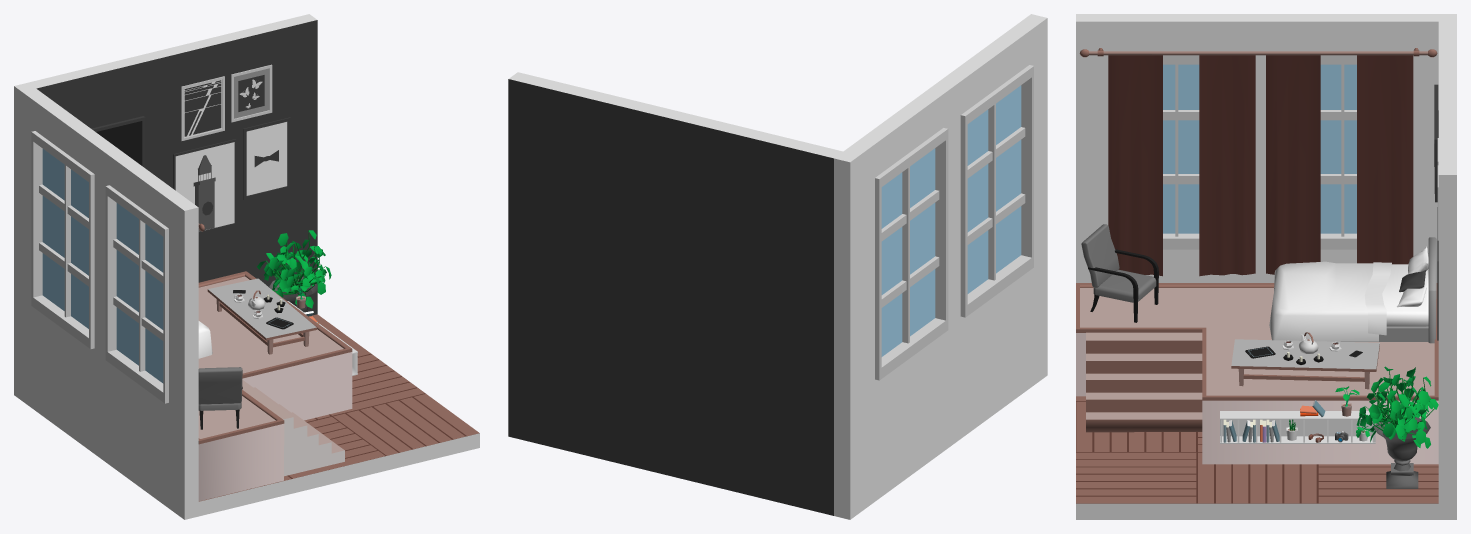
Rendered from room_22.glb.
The picture shows the model from 3 angles, left to right: view 1: azimuth 30°, elevation 25°; view 2: azimuth 150°, elevation 25°; view 3: azimuth 270°, elevation 25°; orthographic projection. The views are drawn at different scales.
Parts seen in each view (by area): view 1: Walls_011.011, floor_021.001, Walls_006.042, window_020.001, window_020.002, Walls_006.041, floor_019.002, Walls_006.040, Walls_056.006, Walls_006.043, picture_001.003, picture_013.003 (+7 smaller); view 2: Walls_011.011, Walls_006.042, window_020.001, window_020.002, Walls_006.040, Walls_006.043, Walls_006.041, Walls_006.044; view 3: floor_021.001, floor_019.002, bed_015.002, Curtains_019.002, Curtains_019.004, Curtains_019.003, Curtains_019.001, Walls_006.043, Walls_056.006, Walls_011.011, Walls_006.041, window_020.001 (+10 smaller).
Boxes of the visible parts, box(x1,y1,x2,y2) form: Walls_011.011: box(28, 14, 317, 315); floor_021.001: box(198, 271, 352, 501); Walls_006.042: box(36, 310, 168, 507); window_020.001: box(105, 185, 168, 403); window_020.002: box(31, 131, 94, 348); Walls_006.041: box(168, 195, 198, 519); floor_019.002: box(199, 314, 479, 501); Walls_006.040: box(14, 82, 49, 410); Walls_056.006: box(198, 353, 479, 516); Walls_006.043: box(36, 99, 181, 227); picture_001.003: box(173, 139, 236, 234); picture_013.003: box(243, 117, 290, 200); Walls_011.011: box(508, 72, 842, 515); Walls_006.042: box(876, 271, 1028, 500); window_020.001: box(960, 65, 1033, 317); window_020.002: box(875, 128, 948, 380); Walls_006.040: box(834, 139, 875, 519); Walls_006.043: box(860, 28, 1028, 176); Walls_006.041: box(1012, 14, 1047, 388); Walls_006.044: box(948, 124, 960, 319); floor_021.001: box(1076, 283, 1438, 464); floor_019.002: box(1076, 396, 1438, 503); bed_015.002: box(1269, 237, 1436, 343); Curtains_019.002: box(1199, 55, 1255, 276); Curtains_019.004: box(1357, 55, 1413, 264); Curtains_019.003: box(1266, 55, 1320, 274); Curtains_019.001: box(1108, 55, 1162, 276); Walls_006.043: box(1112, 14, 1406, 62); Walls_056.006: box(1076, 401, 1438, 519); Walls_011.011: box(1438, 21, 1456, 519); Walls_006.041: box(1076, 14, 1112, 282); window_020.001: box(1163, 55, 1199, 249).
Size of the model in its own units: 4.26 by 4.2 by 4.2.
1 material, 1 textured.
